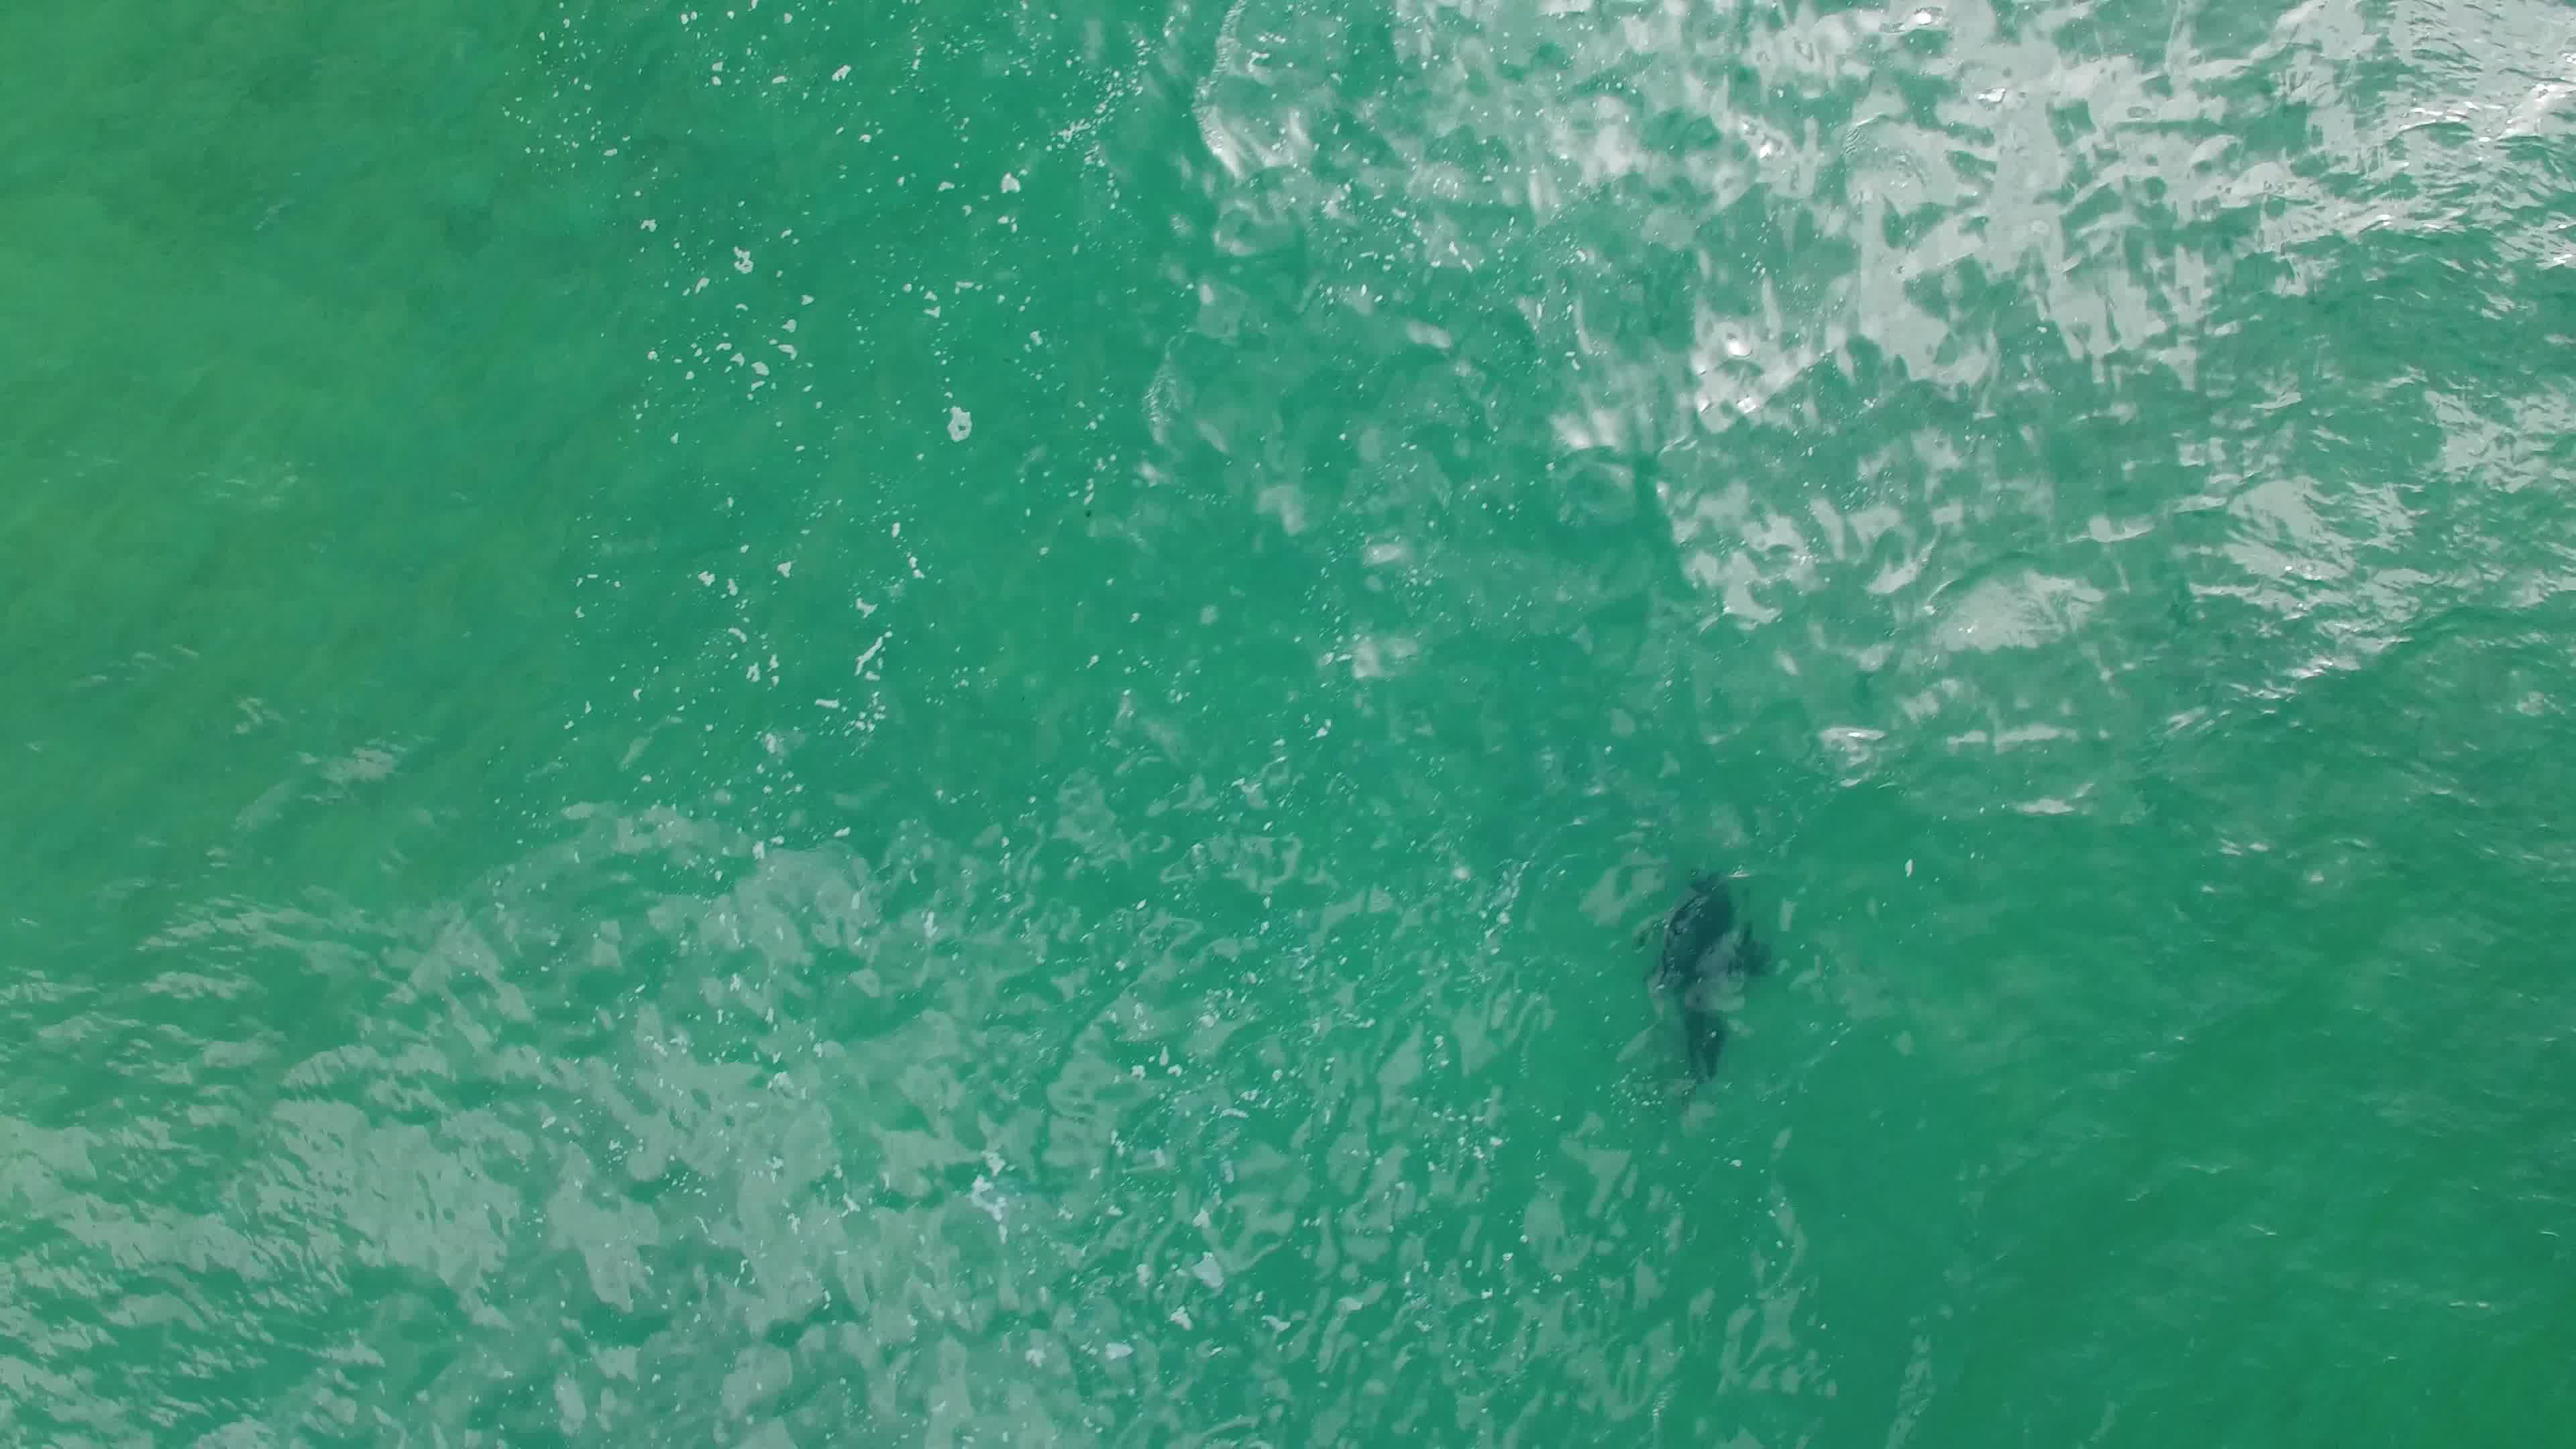shark: (1633, 863, 1782, 1092)
